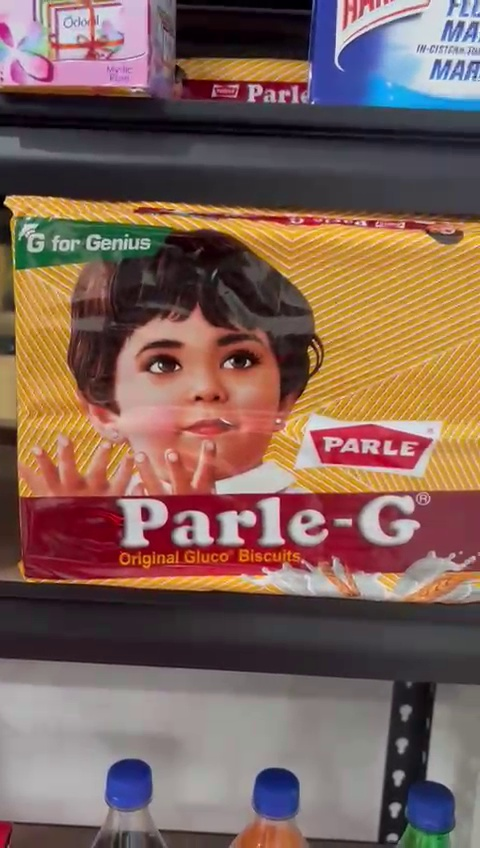Parle-G: (11, 194, 480, 600)
